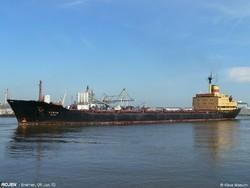Cargoship: (5, 70, 241, 133)
